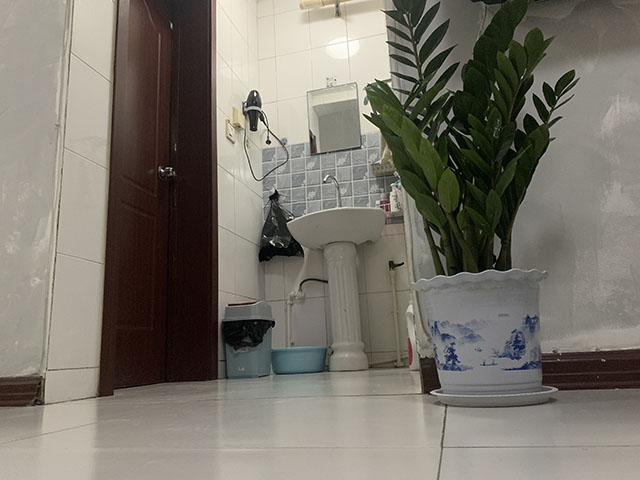trashcan: (220, 300, 275, 379)
